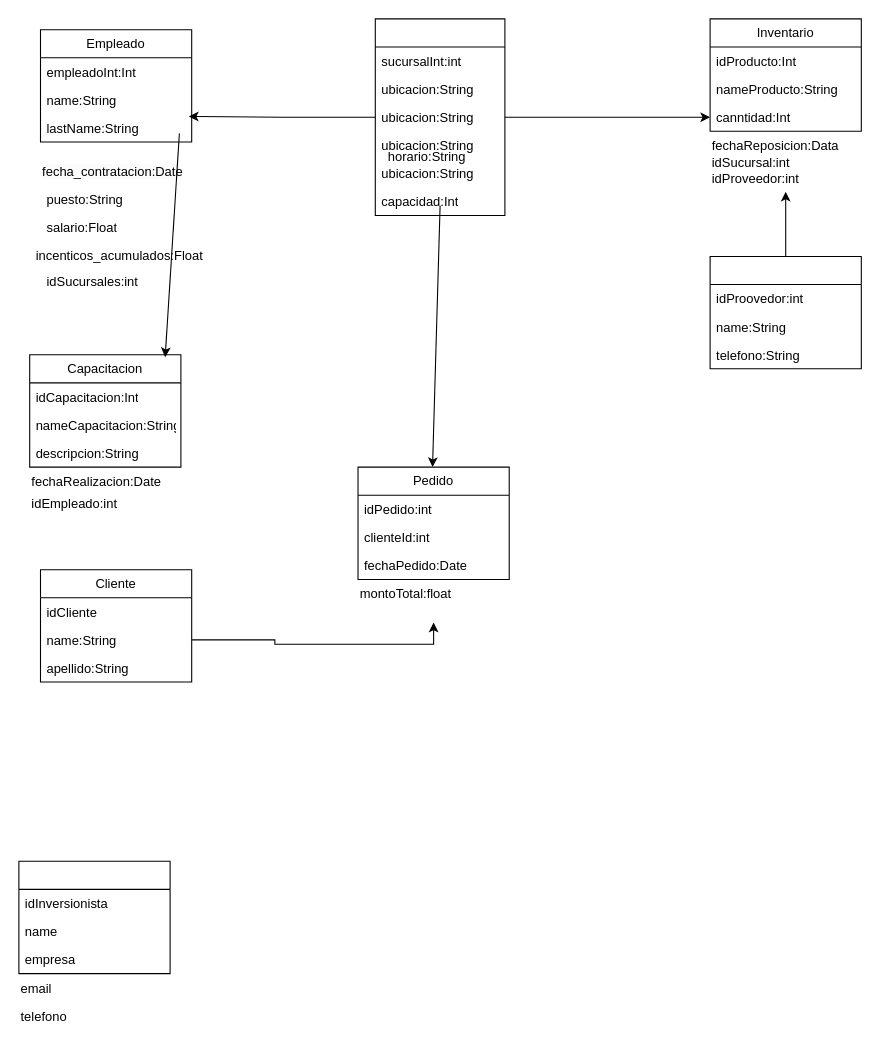
The diagram is 880 pixels wide and 1064 high, and some of its shapes have lost their labels. Here are the shapes that lost their labels. From the top down, the box of each, then its label:
(374, 18, 505, 215): Sucursales
(709, 255, 861, 369): Proveedor
(18, 860, 170, 974): Inversionistas
